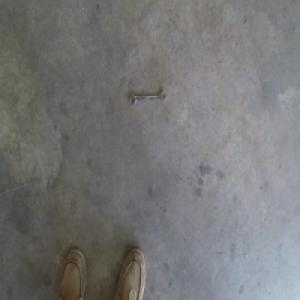Wrench: (129, 89, 166, 106)
